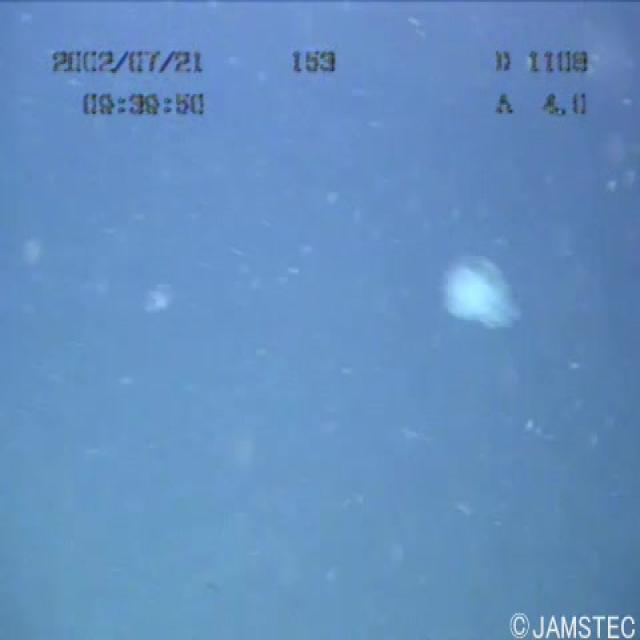plastic: (425, 233, 560, 357)
